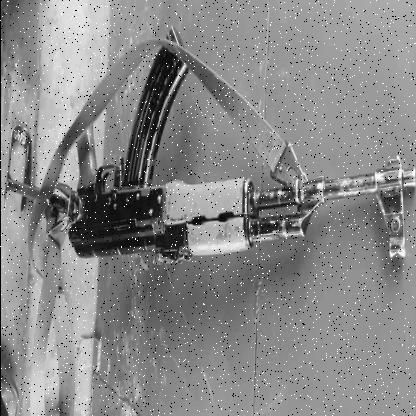rifle: (3, 23, 416, 272)
